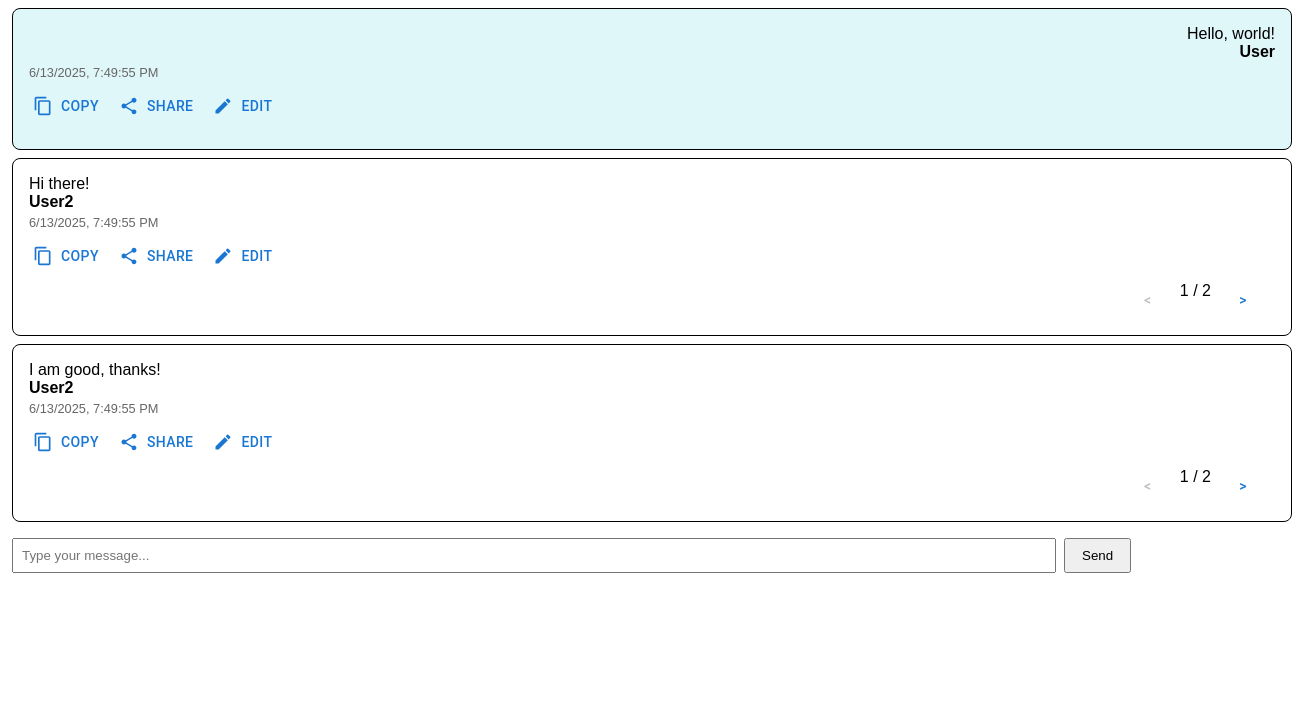
it: renders conversation with recursive navigation and selection
This screenshot has width=1292, height=720.
Expected: the text "Hello, world!" is shown, [1187,25,1275,42]
Expected: the text "Hi there!" is shown, [29,174,90,192]
Click the 1st button ">" at [1243, 300], box [1211,282,1275,318]
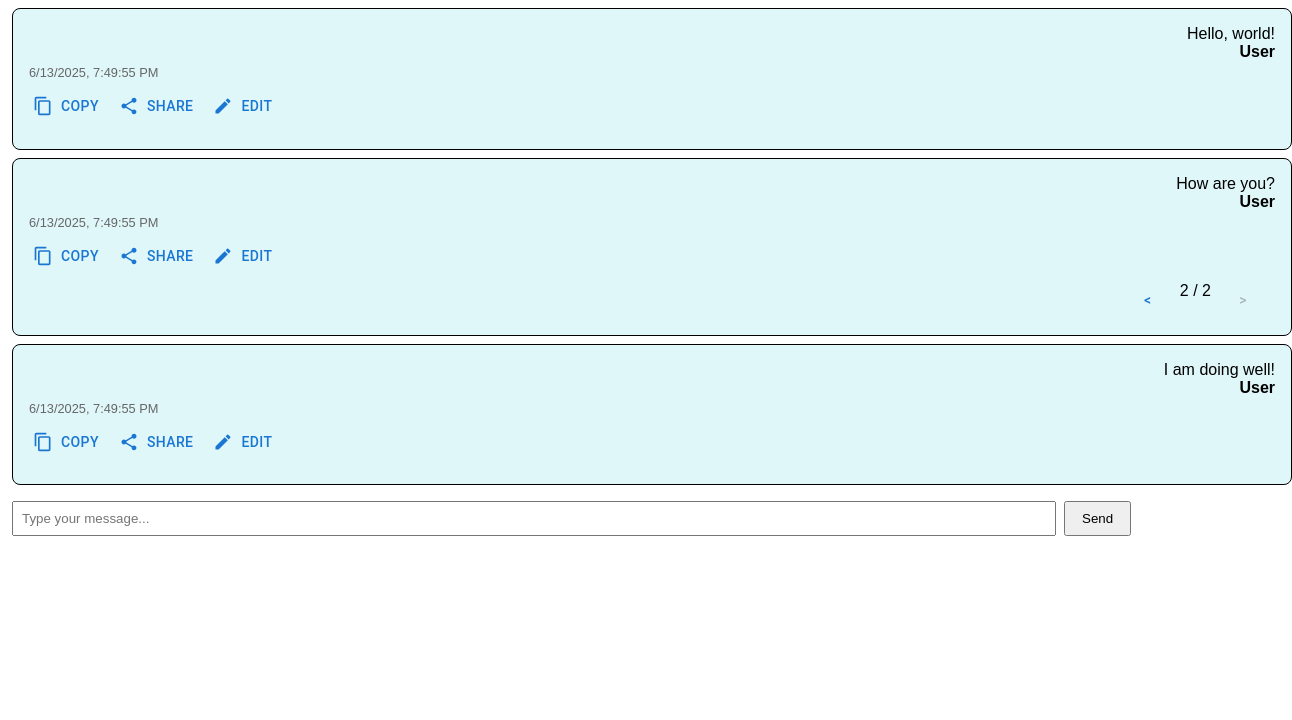
Expected: the text "How are you?" is shown, [1176,174,1275,192]
Expected: the text "Hi there!" is gone
Expected: the text "I am doing well!" is shown, [1164,360,1275,378]
Click the button "<" at [1148, 300], box [1116,282,1180,318]
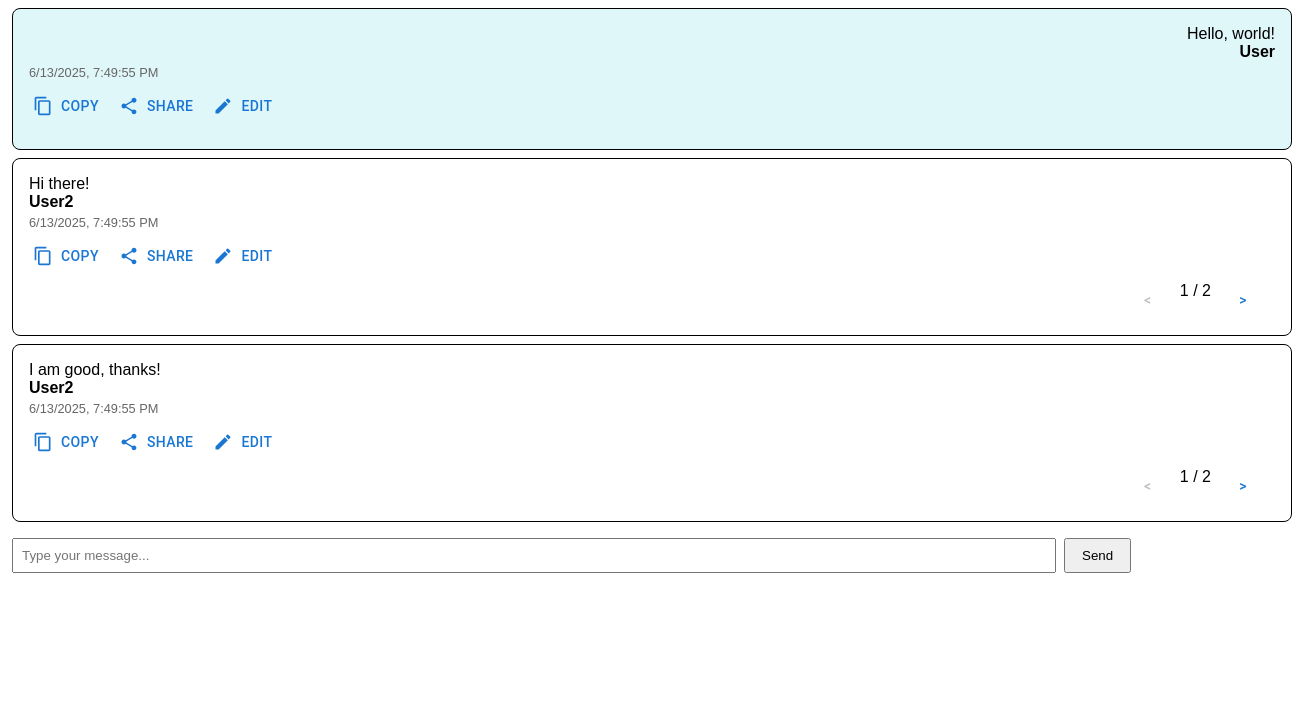
Expected: the text "How are you?" is gone
Expected: the text "Hi there!" is shown, [29,174,90,192]
Expected: the text "I am doing well!" is gone
